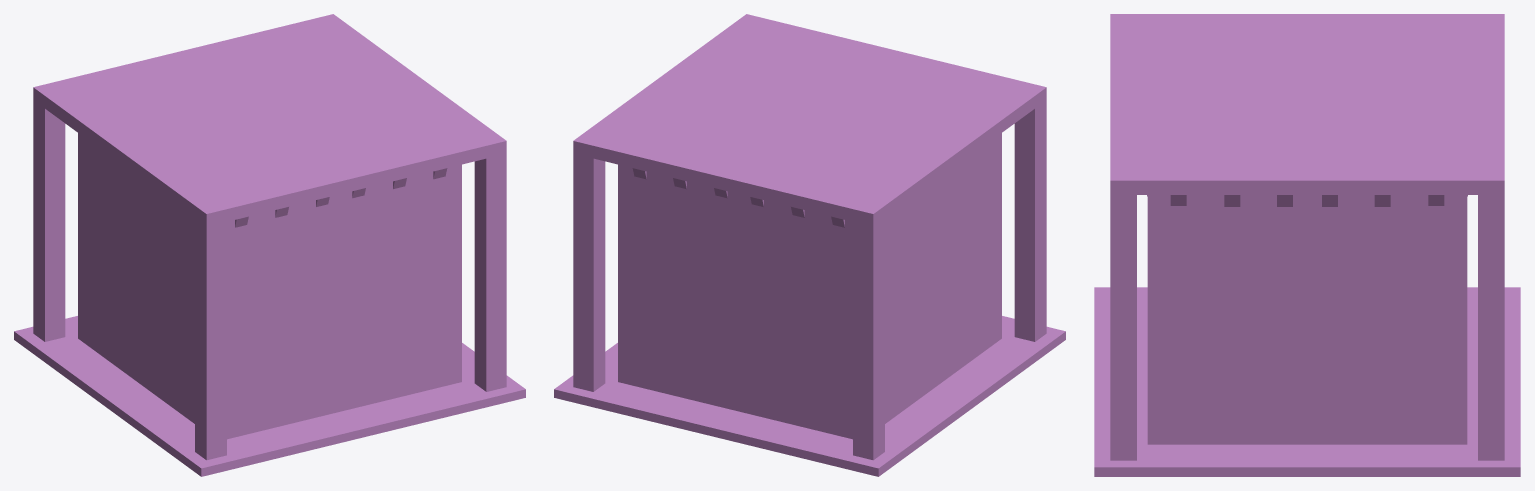
File: Tower2_Mid_B.fbx
3 renders of one model, left to right at view 1: azimuth 30°, elevation 25°; view 2: azimuth 150°, elevation 25°; view 3: azimuth 270°, elevation 25°, orthographic. The views are drawn at different scales.
Parts seen in each view (by area): view 1: Tower2_Mid_B; view 2: Tower2_Mid_B; view 3: Tower2_Mid_B.
Boxes of the visible parts, x1,y1,x2,y2 form: Tower2_Mid_B: (14, 14, 525, 476); Tower2_Mid_B: (554, 14, 1065, 476); Tower2_Mid_B: (1094, 14, 1520, 476).
Size of the model in its own units: 600 by 450 by 600.
